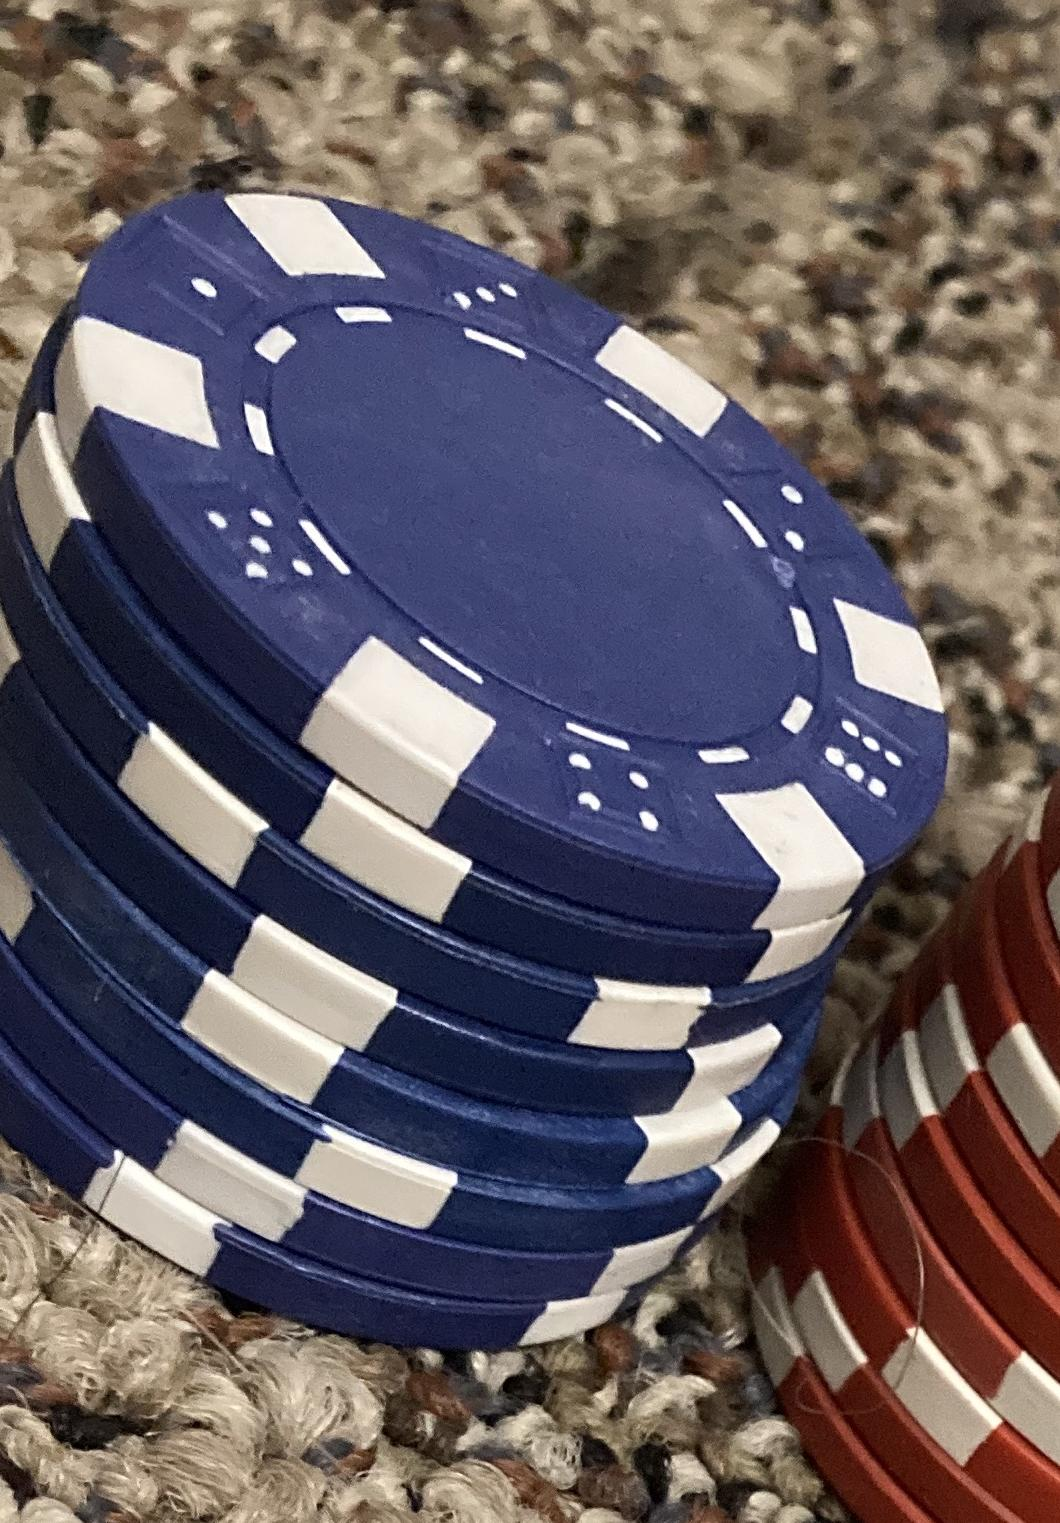Chip: (1, 1, 1060, 1523)
